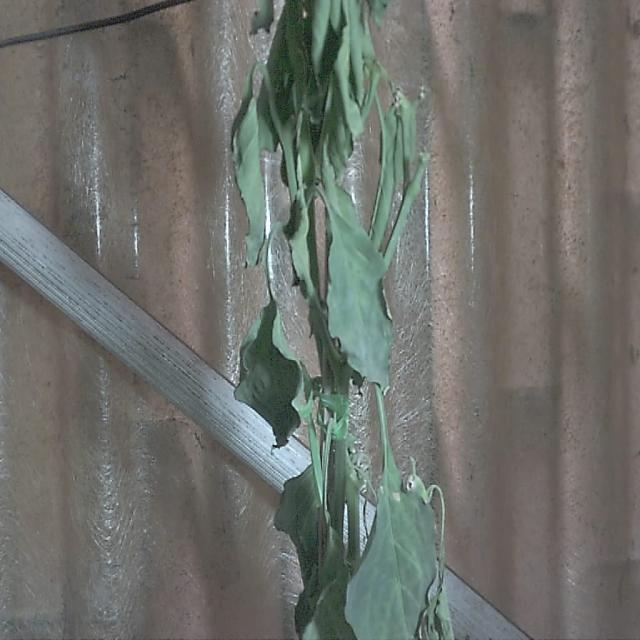Leaf: (344, 479, 436, 640), (327, 217, 392, 393), (236, 302, 302, 446), (229, 91, 267, 272)
